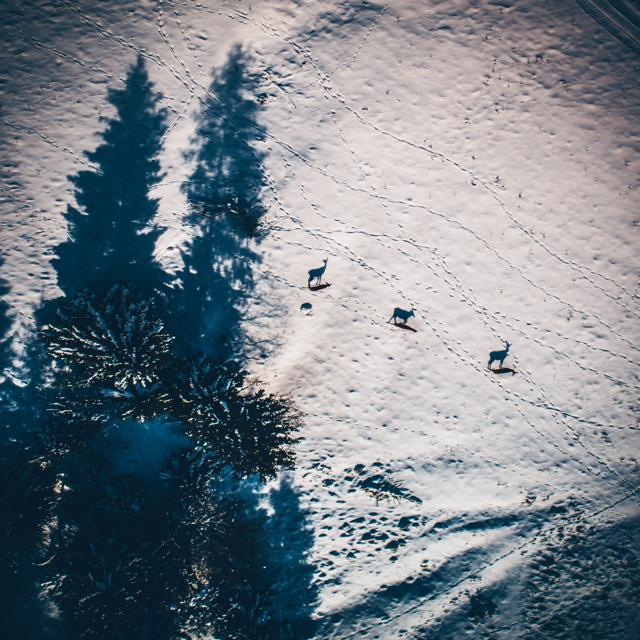deer: (470, 313, 530, 393), (369, 284, 431, 352), (290, 243, 341, 304)
